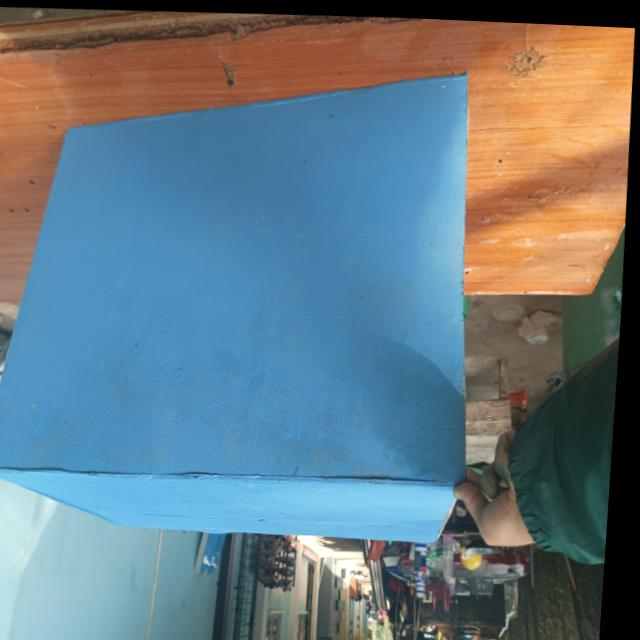blue_box: (0, 83, 495, 554)
